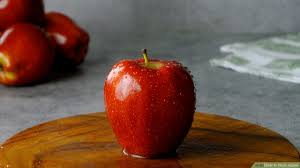apple: (102, 47, 198, 159)
